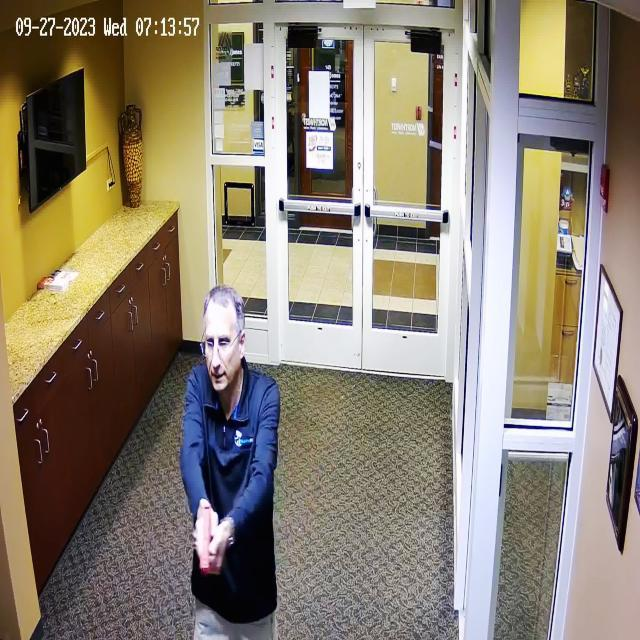Gun: (185, 489, 235, 578)
